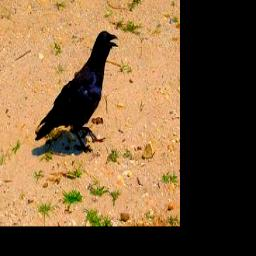Crow: (36, 30, 119, 152)
